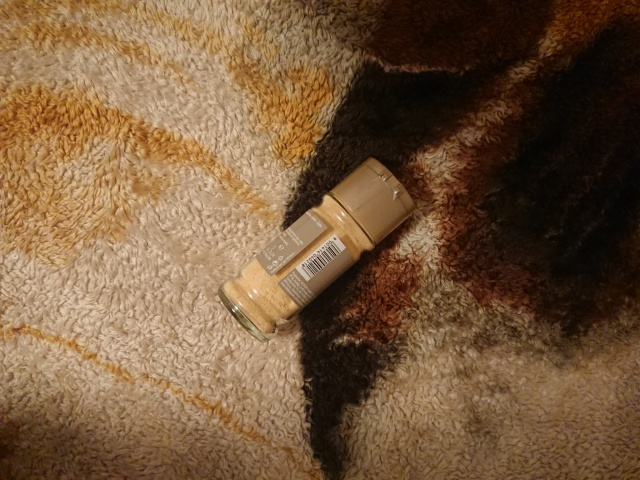Kotanyi Garlic Granules 70g: (214, 150, 420, 348)
